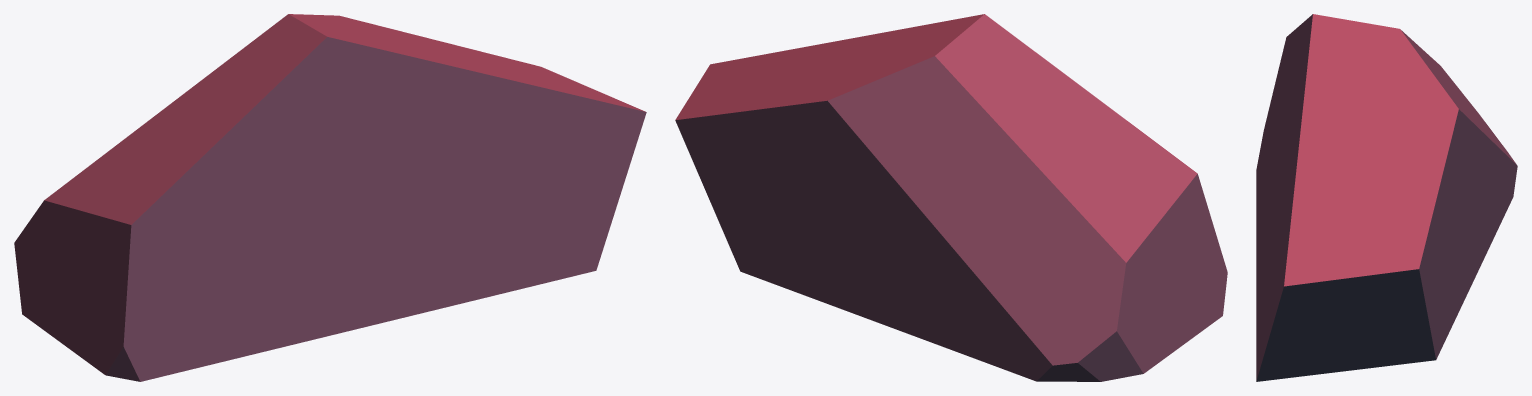
Rendered from geology-crystals-gemstone_v1.glb.
3 renders of one model, left to right at view 1: azimuth 30°, elevation 25°; view 2: azimuth 150°, elevation 25°; view 3: azimuth 270°, elevation 25°, orthographic. The views are drawn at different scales.
Visible parts, largest first — view 1: gemstone_v1; view 2: gemstone_v1; view 3: gemstone_v1.
Boxes of the visible parts, x1=… form: gemstone_v1: x1=14, y1=14, x2=646, y2=381; gemstone_v1: x1=675, y1=14, x2=1227, y2=381; gemstone_v1: x1=1256, y1=14, x2=1517, y2=381.
Size of the model in its own units: 16.17 by 7.73 by 7.13.
